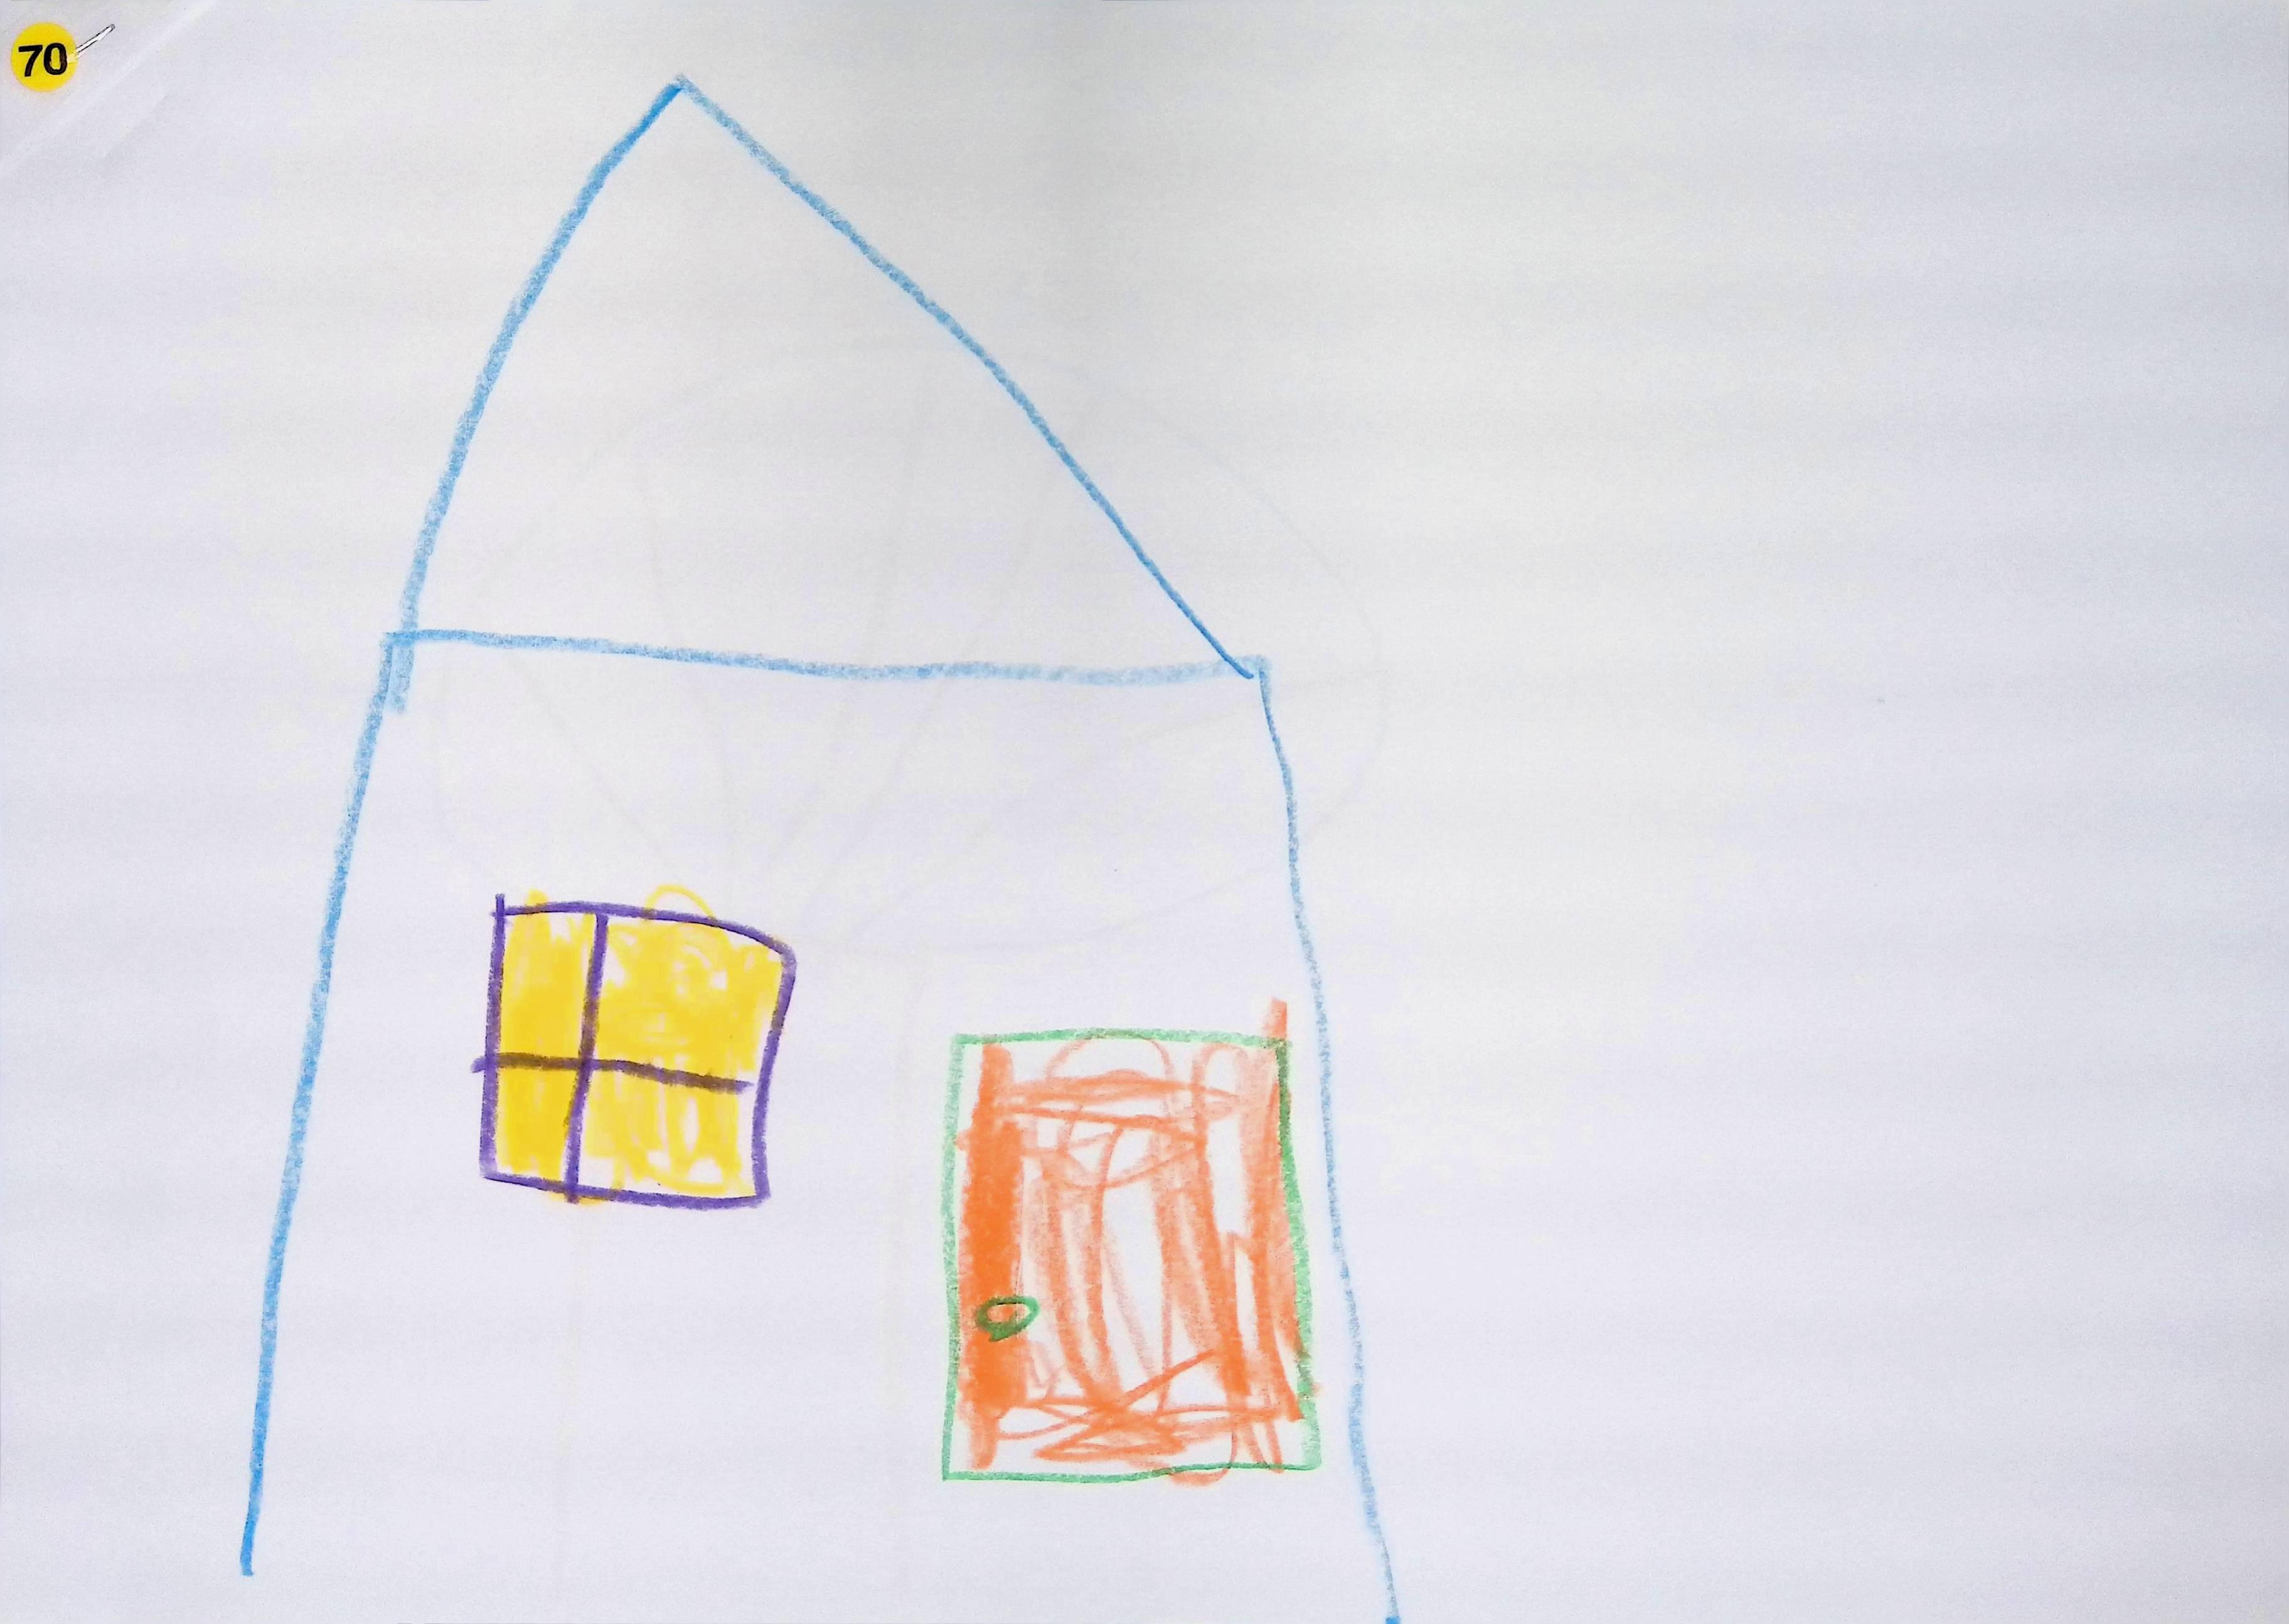door: (942, 1000, 1321, 1482)
house: (239, 74, 1414, 1624)
roof: (399, 72, 1238, 680)
wall: (249, 642, 1395, 1624)
window: (474, 888, 792, 1207)
